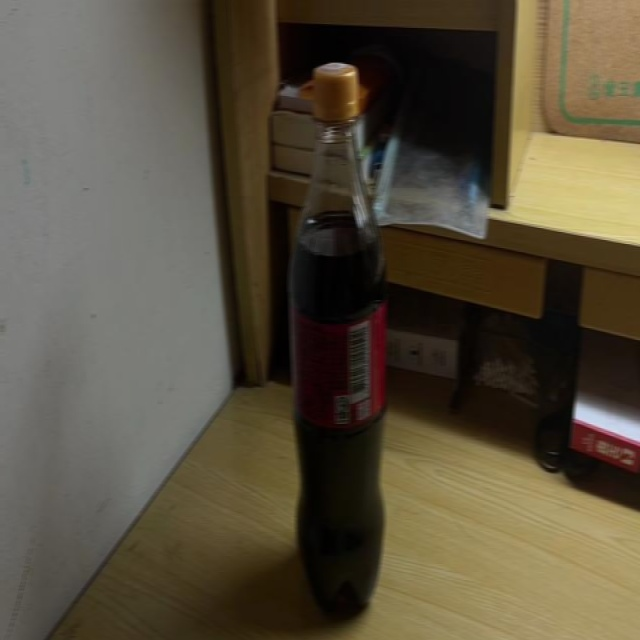Coca-Cola: (287, 58, 385, 611)
